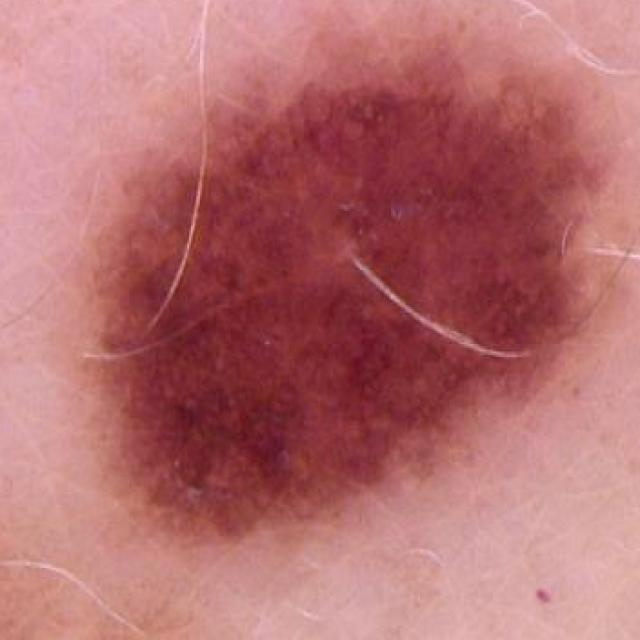NV: (78, 17, 635, 543)
